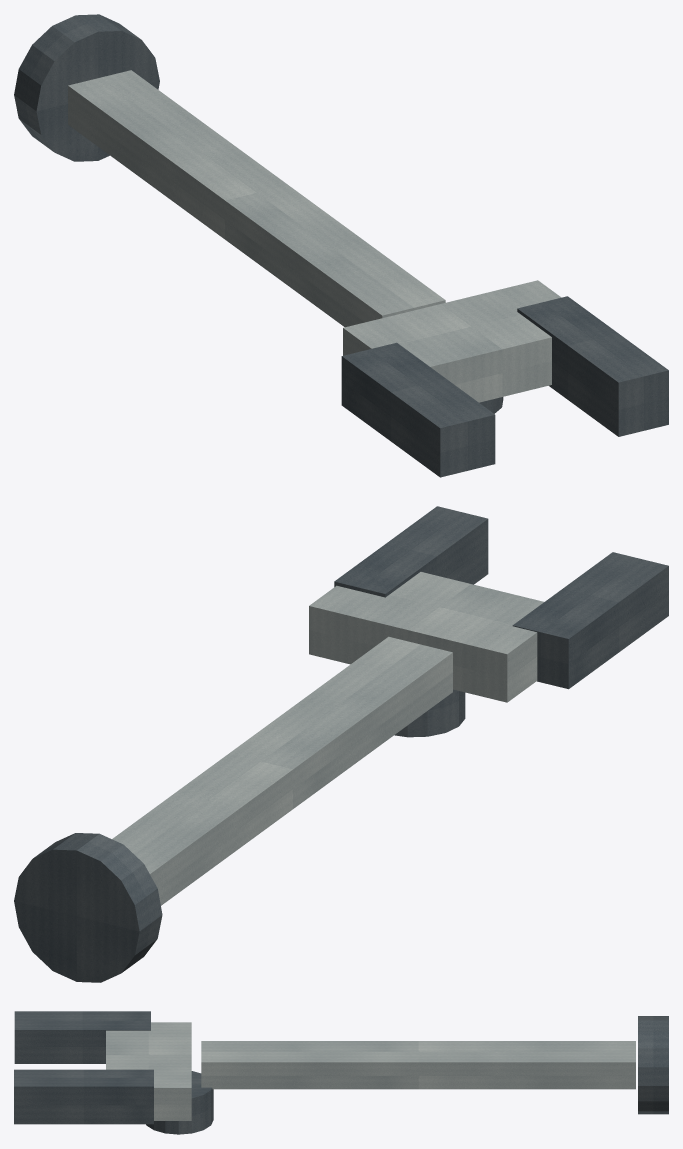
The model's file is PROJECT_Z_Pickup_AdjustableWrench.glb.
The picture shows the model from 3 angles, top to bottom: view 1: azimuth 30°, elevation 25°; view 2: azimuth 150°, elevation 25°; view 3: azimuth 270°, elevation 25°; orthographic projection. The views are drawn at different scales.
Visible parts, largest first — view 1: ADJWRENCH_Handle, ADJWRENCH_Head, ADJWRENCH_FixedJaw, ADJWRENCH_MovableJaw, ADJWRENCH_GripEnd; view 2: ADJWRENCH_Handle, ADJWRENCH_Head, ADJWRENCH_GripEnd, ADJWRENCH_FixedJaw, ADJWRENCH_MovableJaw, ADJWRENCH_AdjustThumbwheel; view 3: ADJWRENCH_Handle, ADJWRENCH_MovableJaw, ADJWRENCH_FixedJaw, ADJWRENCH_Head, ADJWRENCH_GripEnd, ADJWRENCH_AdjustThumbwheel.
Part boxes in pixels (x1=…): ADJWRENCH_Handle: x1=68, y1=70, x2=445, y2=327; ADJWRENCH_Head: x1=343, y1=280, x2=561, y2=402; ADJWRENCH_FixedJaw: x1=341, y1=342, x2=495, y2=477; ADJWRENCH_MovableJaw: x1=517, y1=296, x2=668, y2=436; ADJWRENCH_GripEnd: x1=14, y1=14, x2=159, y2=161; ADJWRENCH_Handle: x1=112, y1=636, x2=452, y2=905; ADJWRENCH_Head: x1=309, y1=572, x2=543, y2=702; ADJWRENCH_GripEnd: x1=14, y1=833, x2=162, y2=982; ADJWRENCH_FixedJaw: x1=512, y1=552, x2=668, y2=689; ADJWRENCH_MovableJaw: x1=334, y1=506, x2=488, y2=597; ADJWRENCH_AdjustThumbwheel: x1=394, y1=689, x2=465, y2=737; ADJWRENCH_Handle: x1=201, y1=1041, x2=635, y2=1089; ADJWRENCH_MovableJaw: x1=14, y1=1069, x2=153, y2=1124; ADJWRENCH_FixedJaw: x1=14, y1=1011, x2=150, y2=1063; ADJWRENCH_Head: x1=106, y1=1022, x2=191, y2=1120; ADJWRENCH_GripEnd: x1=638, y1=1016, x2=668, y2=1114; ADJWRENCH_AdjustThumbwheel: x1=146, y1=1071, x2=213, y2=1134.
Size of the model in its own units: 0.1405 by 0.078 by 0.505.
Materials: 2 (2 with a texture image).
